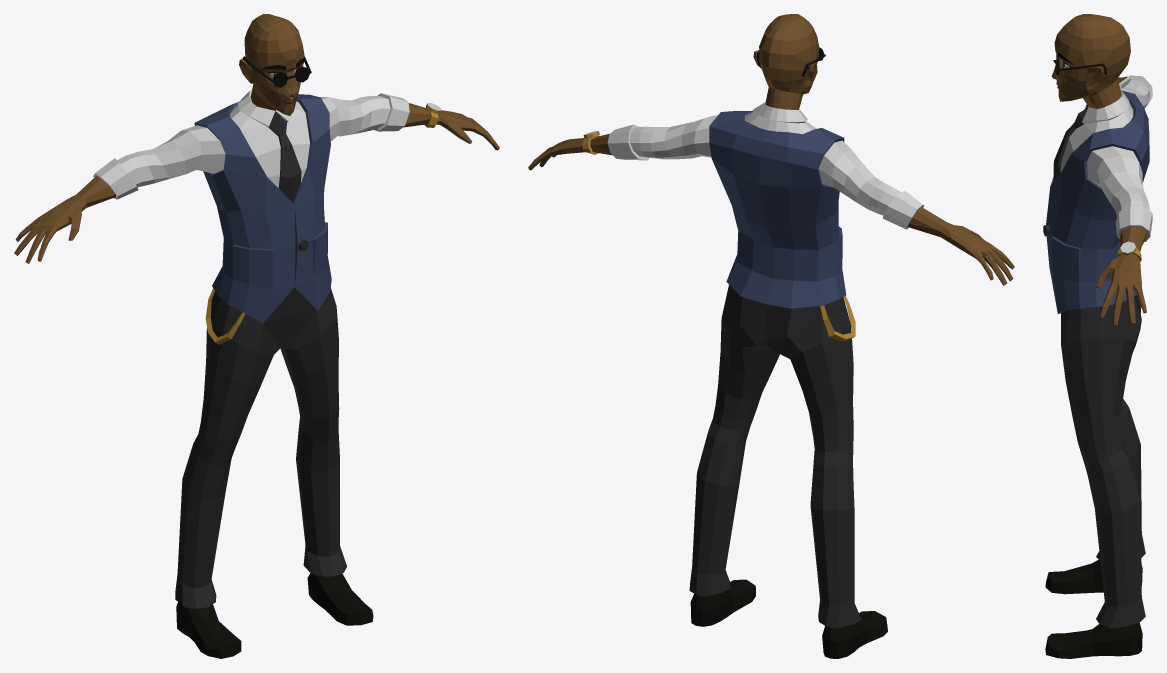
The model's file is City_M_3.fbx.
The picture shows the model from 3 angles, left to right: view 1: azimuth 30°, elevation 25°; view 2: azimuth 150°, elevation 25°; view 3: azimuth 270°, elevation 25°; orthographic projection.
Visible parts, largest first — view 1: City_M_3; view 2: City_M_3; view 3: City_M_3, City_M_Watch, City_M_3_Glasses.
Part boxes in pixels (x1,y1,x2,y2): City_M_3: [14, 14, 499, 658]; City_M_3: [528, 14, 1014, 658]; City_M_3: [1045, 14, 1152, 658]; City_M_Watch: [1117, 241, 1141, 261]; City_M_3_Glasses: [1053, 54, 1106, 74].
Bounding box in the file's own units: 149 × 180 × 29.71.
1 material, 1 textured.
